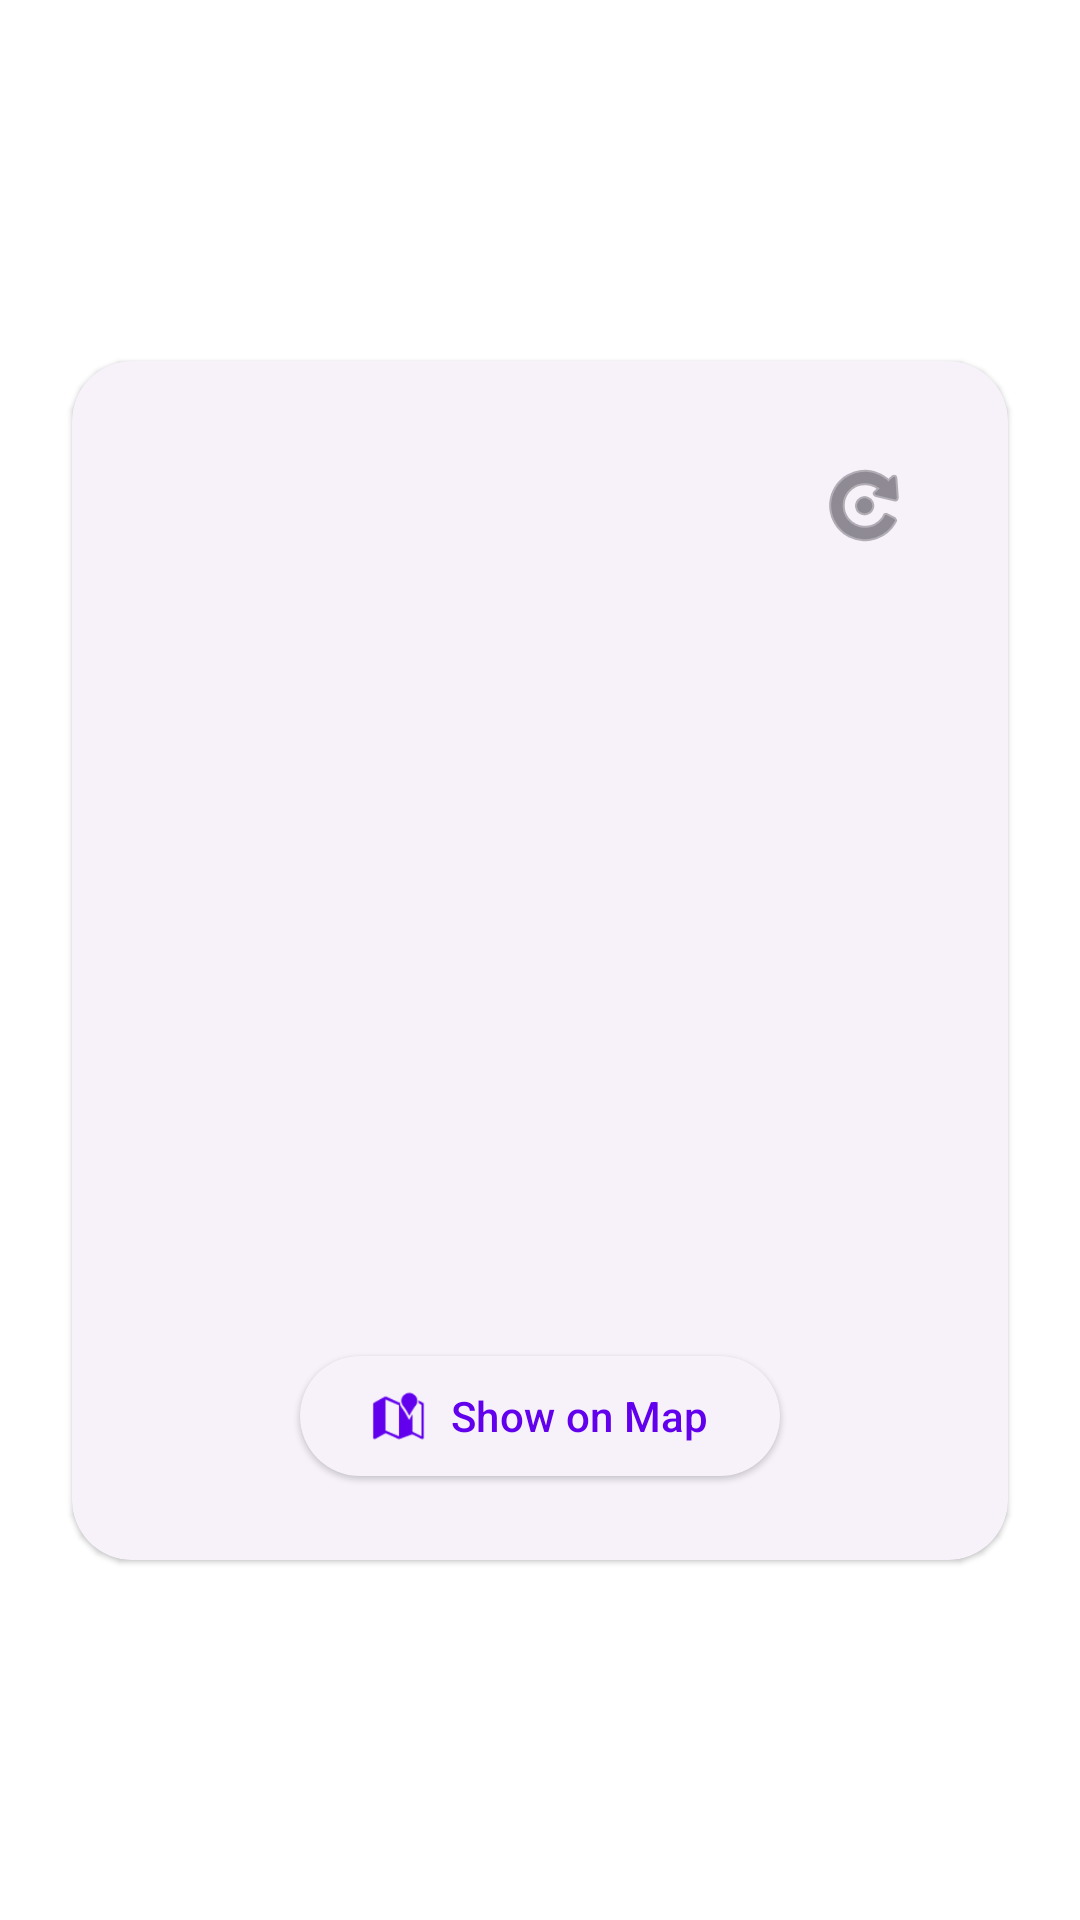

Icons on this 1080×1920 Android screen, each with the point to tap as (x,y):
Refresh Data: (864,505)
